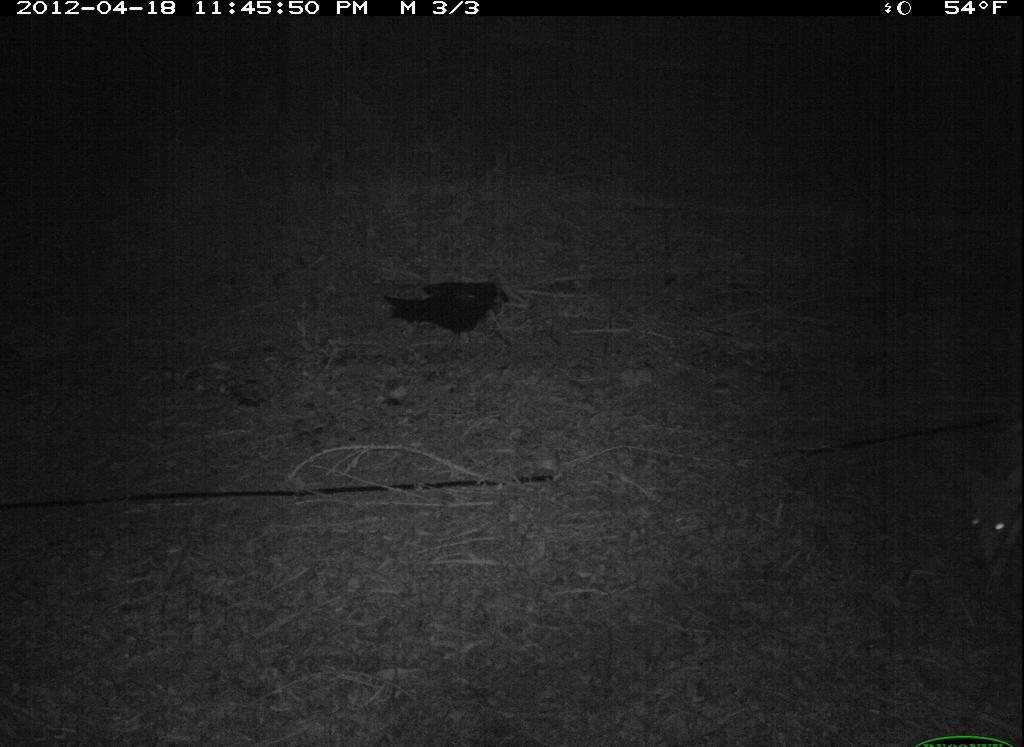coyote: (949, 457, 1023, 583)
